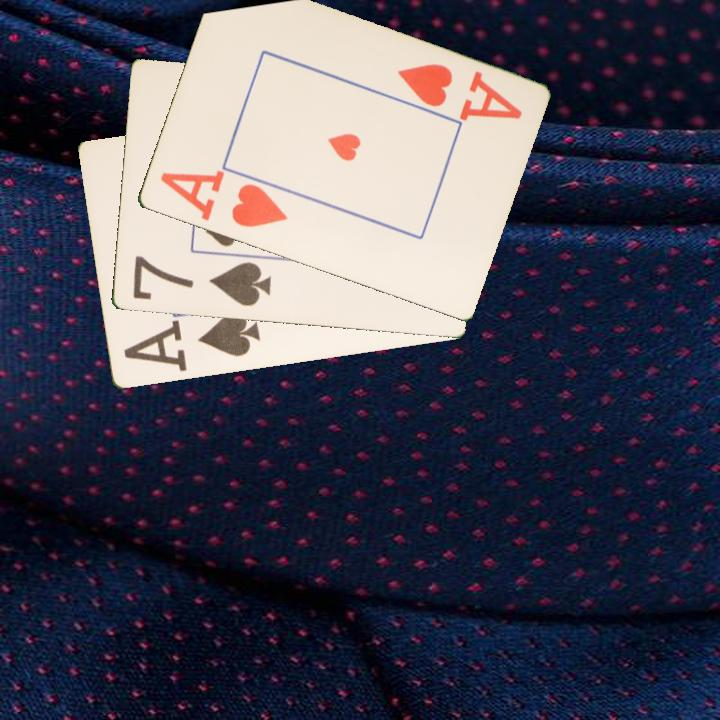7s: (128, 252, 274, 310)
Ah: (156, 168, 290, 231), (393, 60, 525, 123)
As: (133, 309, 263, 360)
